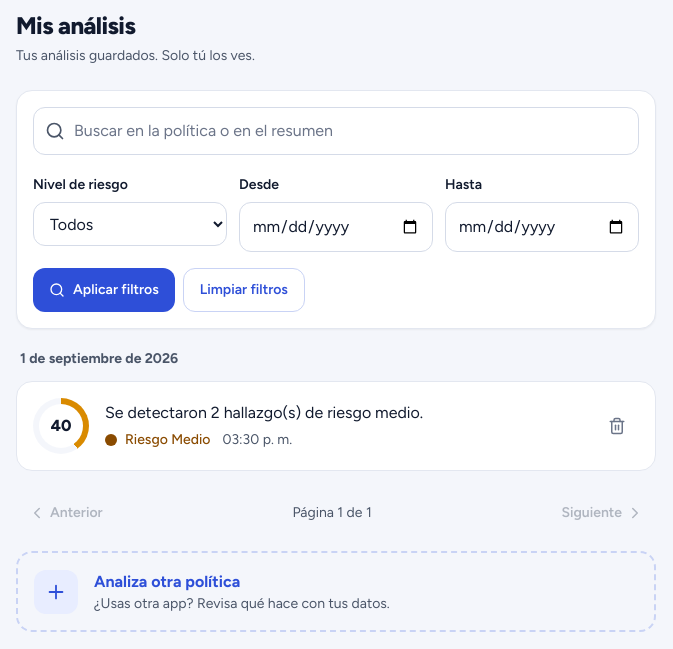
Scenario: Historial › búsqueda y filtros › distingue un historial vacío de una búsqueda sin coincidencias
Expected: the text "Se detectaron 2 hallazgo(s) de riesgo medio." is shown, [105,403,423,422]
Type "inexistente" into the search field labelled "Buscar" at (336, 131), box [33,107,639,155]
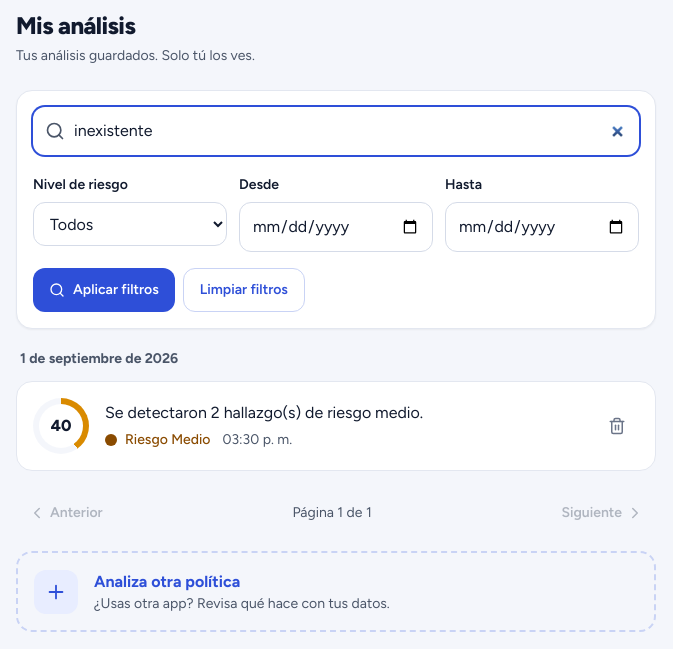
Click the button "Aplicar filtros" at (104, 290), box [33,268,175,312]
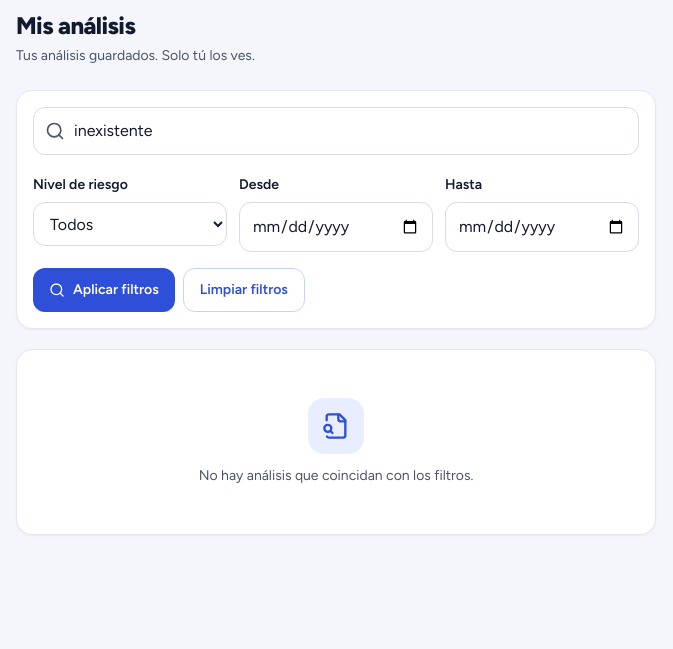
Expected: the text "No hay análisis que coincidan con los filtros." is shown, [199,466,473,486]
